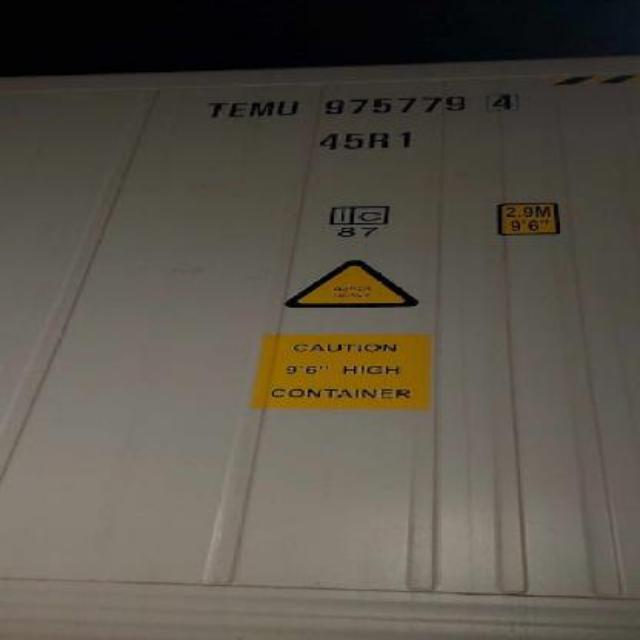4: (486, 88, 520, 115)
5: (372, 94, 396, 120)
7: (346, 95, 370, 124), (418, 87, 438, 119), (394, 92, 418, 118)
9: (318, 95, 348, 119), (446, 90, 468, 120)
E: (226, 96, 248, 120)
M: (250, 98, 276, 122)
T: (198, 95, 226, 119)
U: (276, 94, 302, 122)
